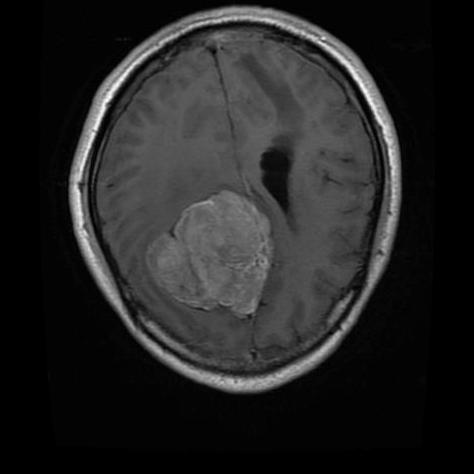Tumour-Meningioma: (147, 186, 292, 335)
